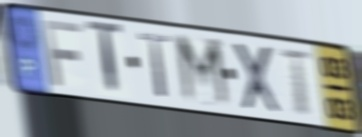F: (41, 17, 84, 89)
M: (172, 31, 234, 112)
T: (84, 18, 125, 101), (278, 46, 315, 119), (137, 31, 174, 101)
X: (230, 39, 284, 117)
